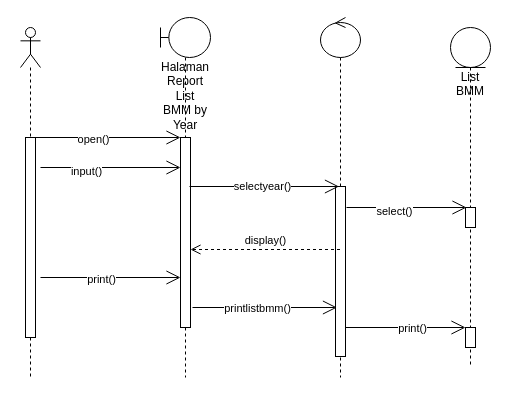
Some shapes in this 508 by 395 pixel diagram are drawn without their labels. The box of each missing label's shape, as (x1, y1, x2, y2) in pixels:
Control Report List BMM by Year: (320, 16, 360, 378)
User: (20, 26, 40, 378)
